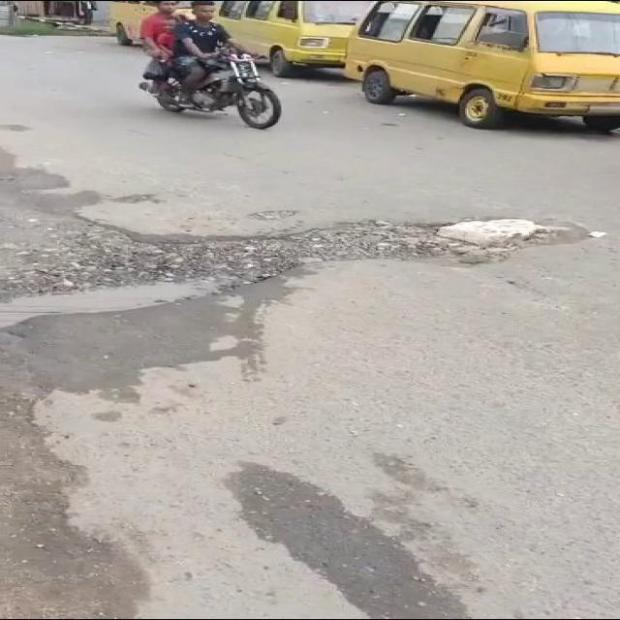lubang: (0, 219, 584, 327), (251, 210, 299, 220)
